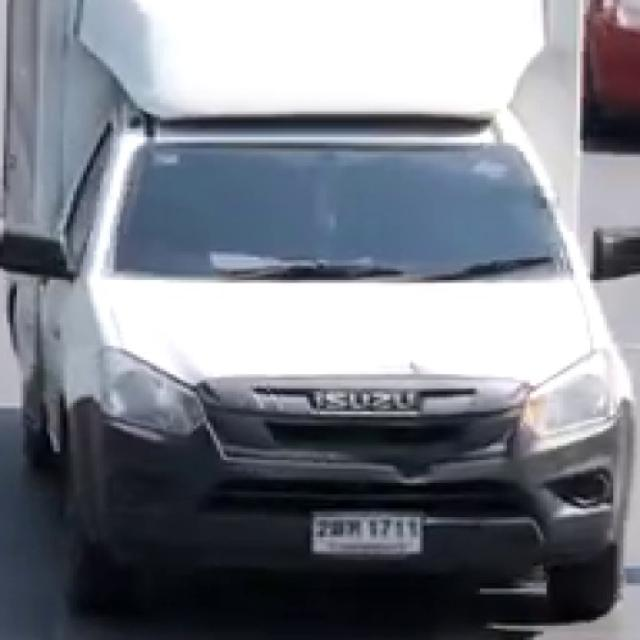plate: (312, 511, 424, 556)
